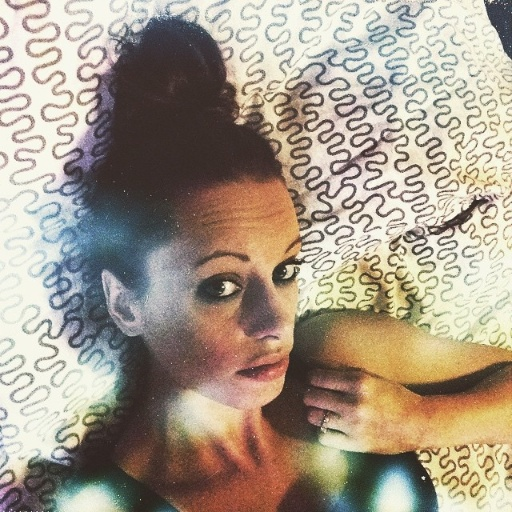hand: (302, 368, 422, 455)
